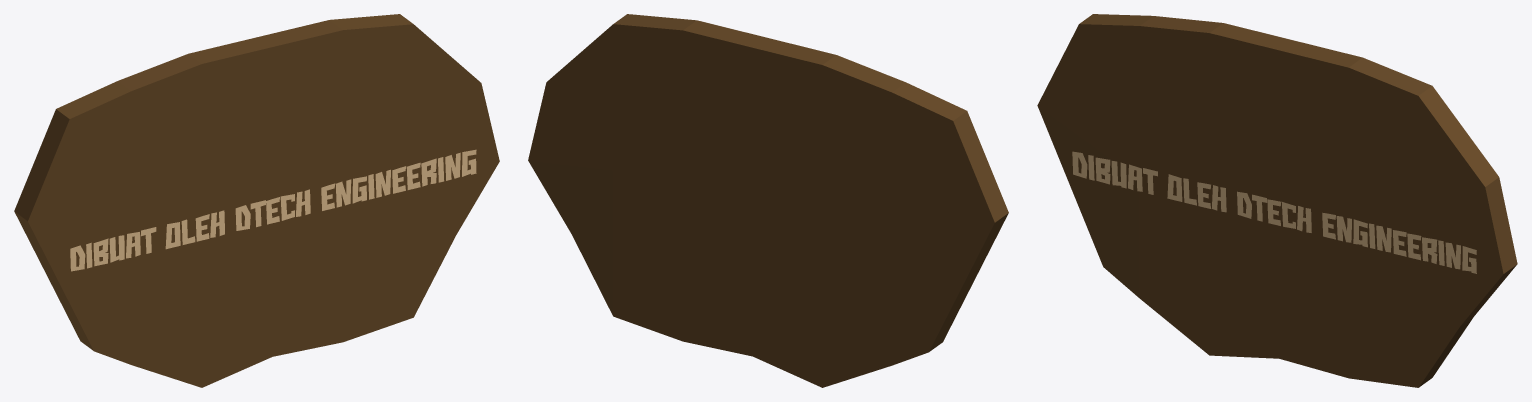
Rendered from ui_2_CNC SUPERMILL .fbx.
3 views of the same model, side by side, from view 1: azimuth 30°, elevation 25°; view 2: azimuth 150°, elevation 25°; view 3: azimuth 330°, elevation 25° (orthographic).
Parts seen in each view (by area): view 1: Cube.003, Text.002; view 2: Cube.003; view 3: Cube.003, Text.002.
Part boxes in pixels (<box>): Cube.003: <box>14,14,499,387</box>; Text.002: <box>70,149,476,271</box>; Cube.003: <box>528,14,1008,387</box>; Cube.003: <box>1037,14,1517,387</box>; Text.002: <box>1072,151,1476,273</box>.
Bounding box in the file's own units: 256 × 168 × 16.5.
